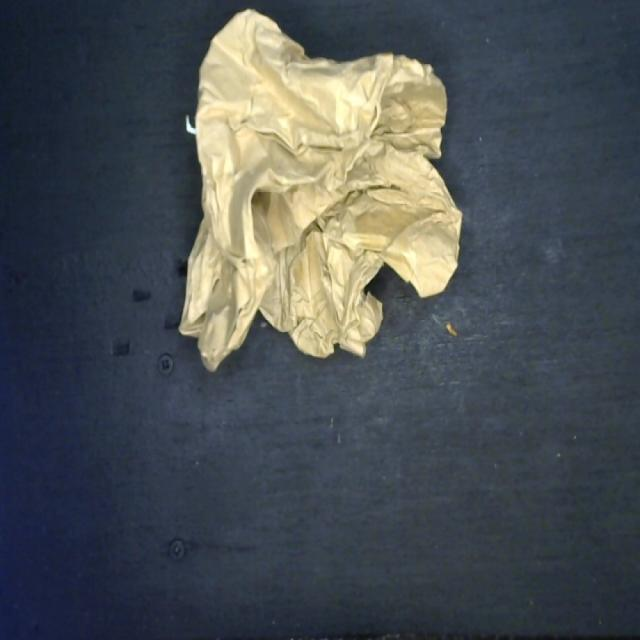biodegradable: (174, 1, 472, 380)
